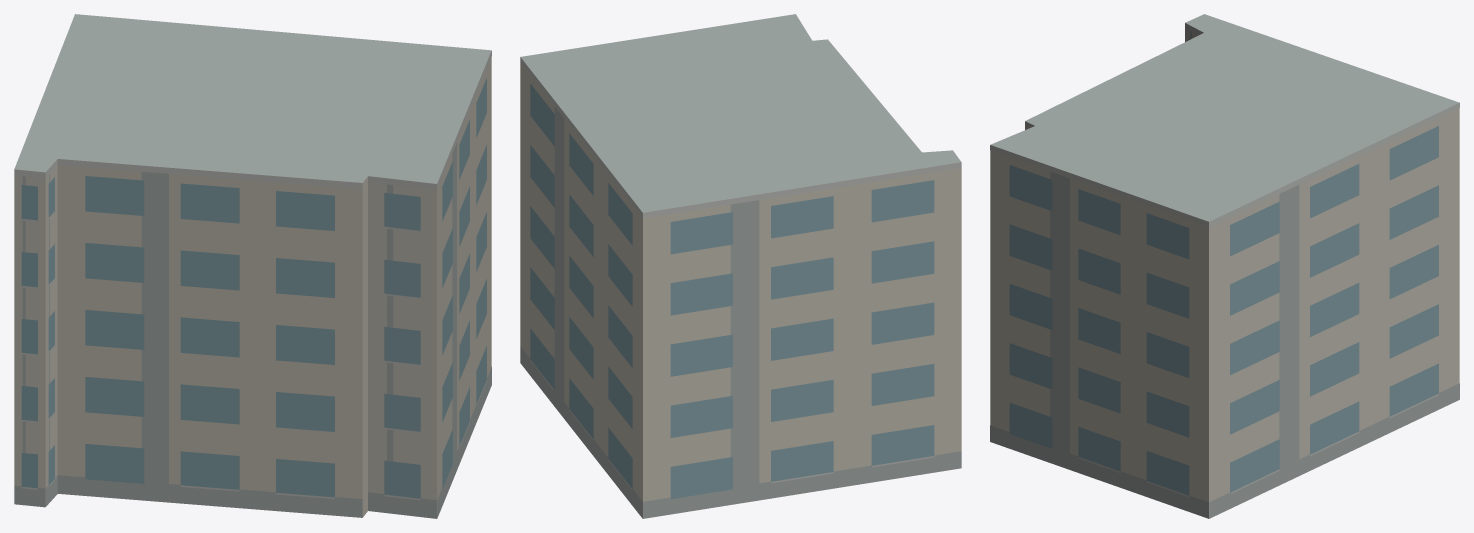
The model's file is survey-upis-32623796.glb.
3 renders of one model, left to right at view 1: azimuth 30°, elevation 25°; view 2: azimuth 150°, elevation 25°; view 3: azimuth 270°, elevation 25°, orthographic. The views are drawn at different scales.
Visible parts, largest first — view 1: survey-upis-32623796.tmp; view 2: survey-upis-32623796.tmp; view 3: survey-upis-32623796.tmp.
Boxes of the visible parts, x1=… form: survey-upis-32623796.tmp: x1=14, y1=14, x2=491, y2=518; survey-upis-32623796.tmp: x1=520, y1=14, x2=961, y2=518; survey-upis-32623796.tmp: x1=990, y1=14, x2=1459, y2=518.
Size of the model in its own units: 19.81 by 13.2 by 18.92.
